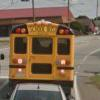Bus: (7, 17, 81, 88)
